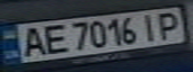0: (87, 18, 109, 48)
1: (106, 16, 124, 46)
6: (118, 14, 142, 45)
7: (66, 19, 90, 52)
A: (15, 25, 48, 58)
E: (36, 21, 69, 55)
I: (136, 11, 163, 42)
P: (151, 10, 187, 40)
